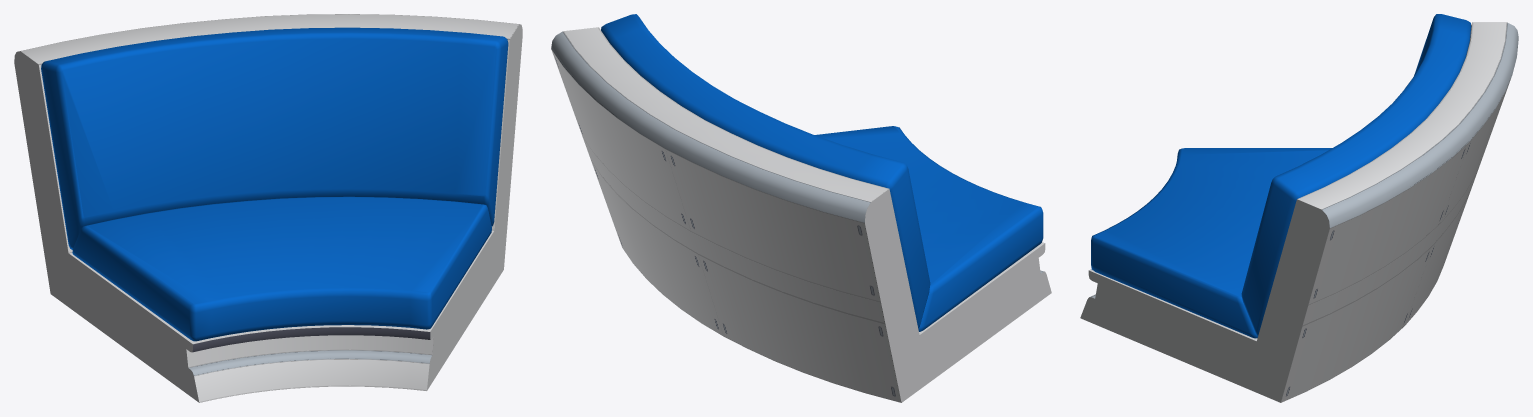
The model's file is Sofa_Angle_02.FBX.
3 renders of one model, left to right at view 1: azimuth 30°, elevation 25°; view 2: azimuth 150°, elevation 25°; view 3: azimuth 270°, elevation 25°, orthographic. The views are drawn at different scales.
Visible parts, largest first — view 1: Sofa_Angle_02; view 2: Sofa_Angle_02; view 3: Sofa_Angle_02.
Part boxes in pixels (bbox=[...]): Sofa_Angle_02: bbox=[14, 14, 522, 402]; Sofa_Angle_02: bbox=[551, 14, 1051, 402]; Sofa_Angle_02: bbox=[1080, 14, 1518, 402].
Bounding box in the file's own units: 1.99 × 1.07 × 1.93.
